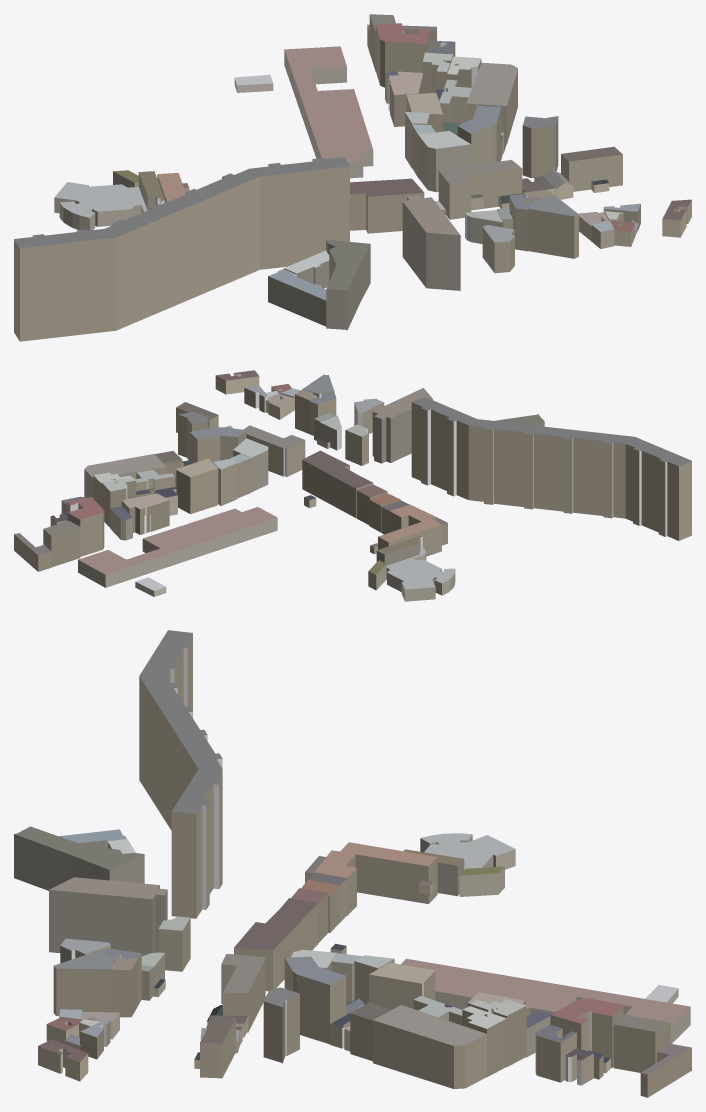
The picture shows the model from 3 angles, top to bottom: view 1: azimuth 30°, elevation 25°; view 2: azimuth 150°, elevation 25°; view 3: azimuth 270°, elevation 25°; orthographic projection. The views are drawn at different scales.
Parts seen in each view (by area): view 1: tuile; view 2: tuile; view 3: tuile.
Part boxes in pixels (x1,y1,x2,y2): tuile: (14,14,691,341); tuile: (14,370,691,601); tuile: (14,630,691,1097).
Size of the model in its own units: 337 by 56.95 by 279.
